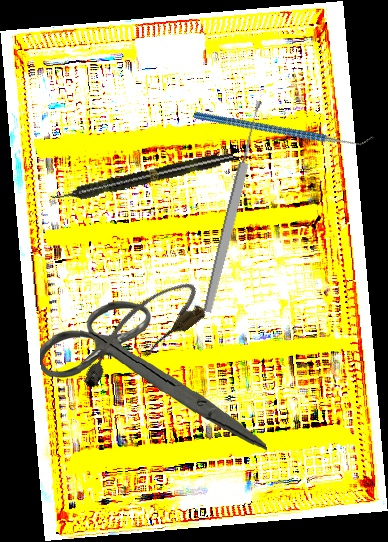Cannula: (65, 271, 213, 398)
Chopper: (192, 55, 375, 199)
Handpiece: (49, 148, 235, 207)
Iris Scissors: (38, 296, 267, 459)
Surgical Spoon: (200, 99, 267, 314)
